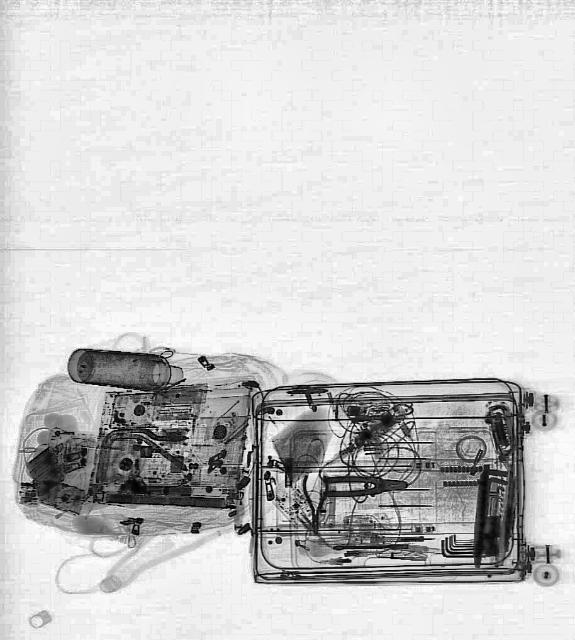Pliers: (323, 472, 408, 498), (301, 474, 331, 534)
